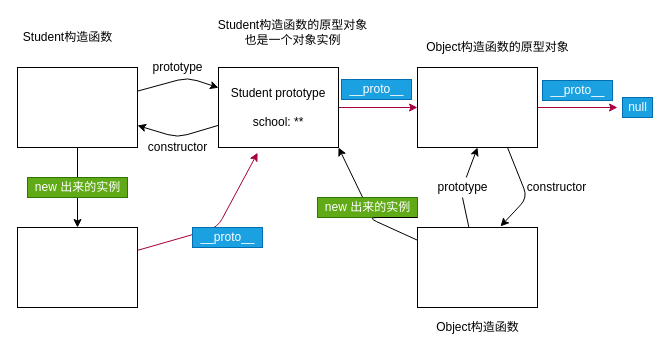
This 670x354 diagram has some shape labels left out. The centre of each missing label's shape, as x and y in pixels:
"Object Function" goes at pixel 477 267.
"Object prototype" goes at pixel 477 107.
"stu1 实例对象 name: **" goes at pixel 77 267.
"Student Function" goes at pixel 77 107.
